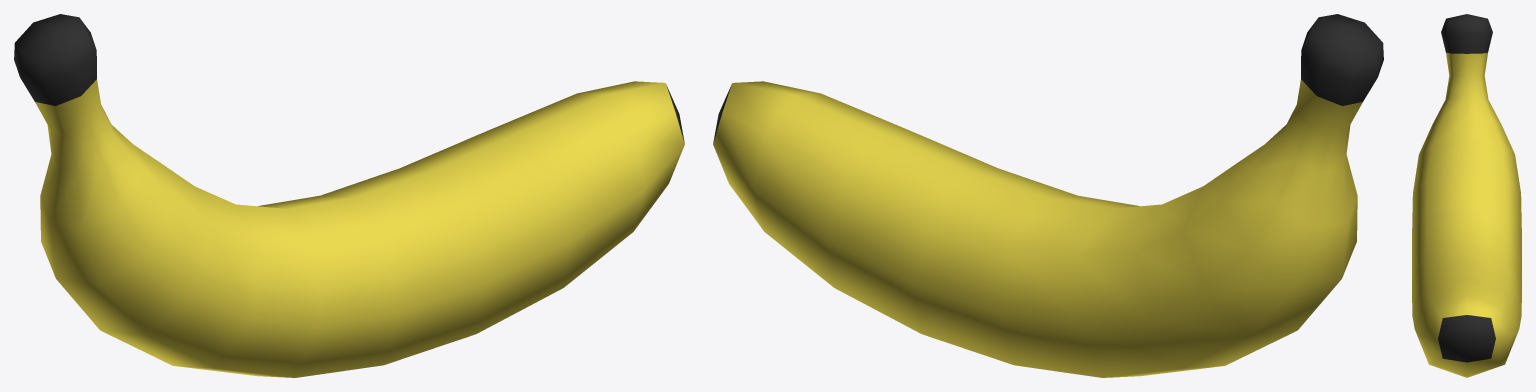
File: Banana.fbx
3 renders of one model, left to right at view 1: azimuth 30°, elevation 25°; view 2: azimuth 150°, elevation 25°; view 3: azimuth 270°, elevation 25°, orthographic. The views are drawn at different scales.
Parts seen in each view (by area): view 1: Banana; view 2: Banana; view 3: Banana.
Part boxes in pixels (x1=…): Banana: x1=14, y1=14, x2=684, y2=377; Banana: x1=713, y1=14, x2=1383, y2=377; Banana: x1=1412, y1=14, x2=1521, y2=377.
Size of the model in its own units: 27.14 by 16.2 by 6.58.
